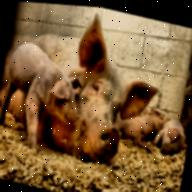boar: (0, 0, 192, 183)
